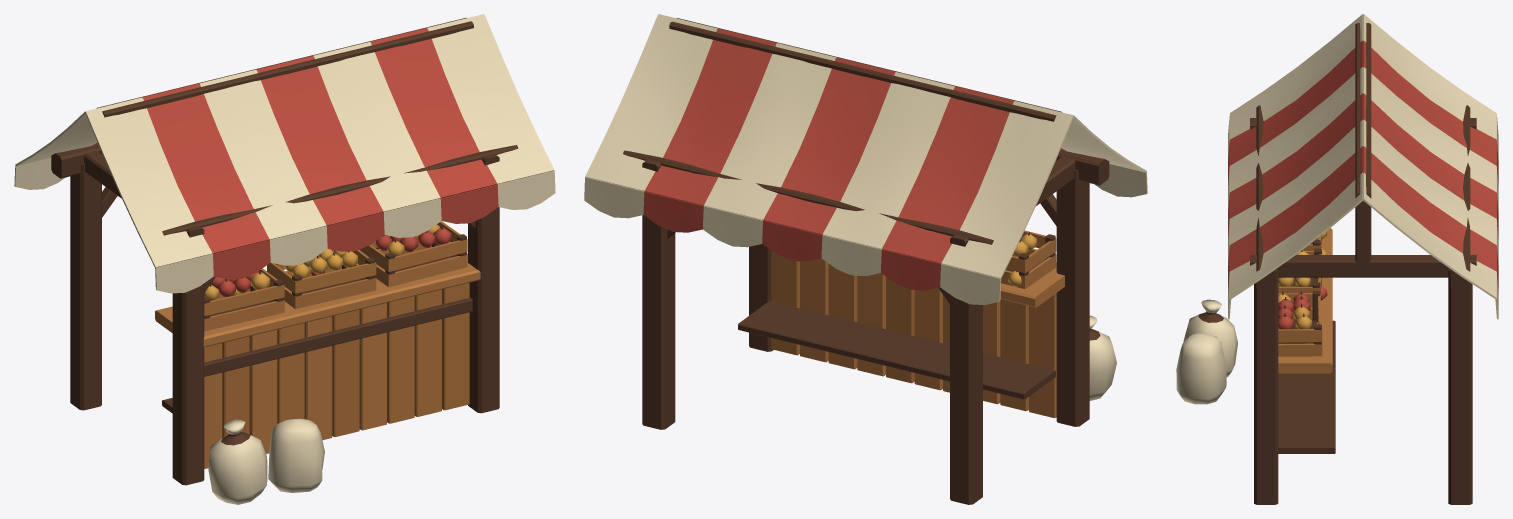
Rendered from building_market_stall_a.glb.
3 views of the same model, side by side, from view 1: azimuth 30°, elevation 25°; view 2: azimuth 150°, elevation 25°; view 3: azimuth 270°, elevation 25° (orthographic). The views are drawn at different scales.
Parts seen in each view (by area): view 1: building_market_stall_a_mesh; view 2: building_market_stall_a_mesh; view 3: building_market_stall_a_mesh.
Part boxes in pixels (box(x1,y1,x2,y2)): building_market_stall_a_mesh: box(14, 14, 555, 504); building_market_stall_a_mesh: box(584, 14, 1147, 504); building_market_stall_a_mesh: box(1176, 14, 1498, 504).
Size of the model in its own units: 2.7 by 2.23 by 1.99.
